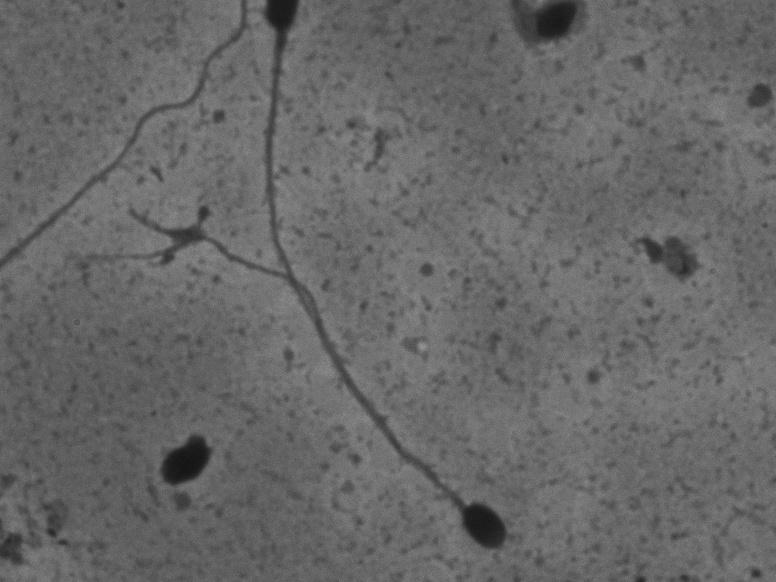Normal: (120, 202, 514, 564)
